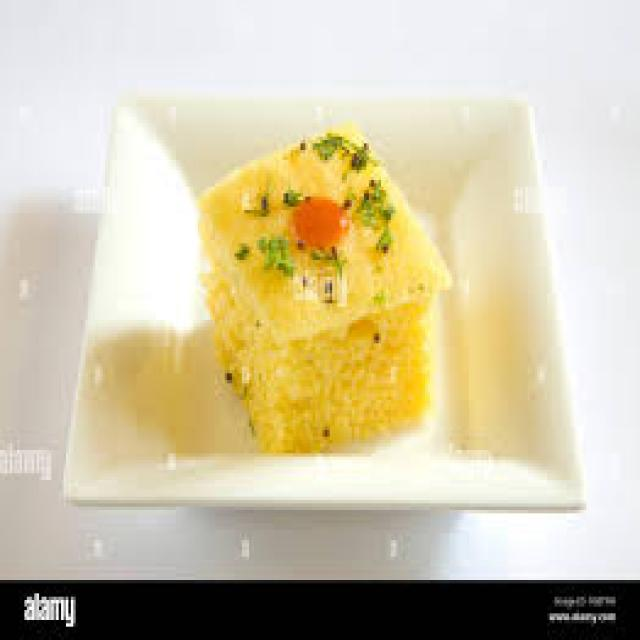DHOKLA: (198, 127, 447, 450)
